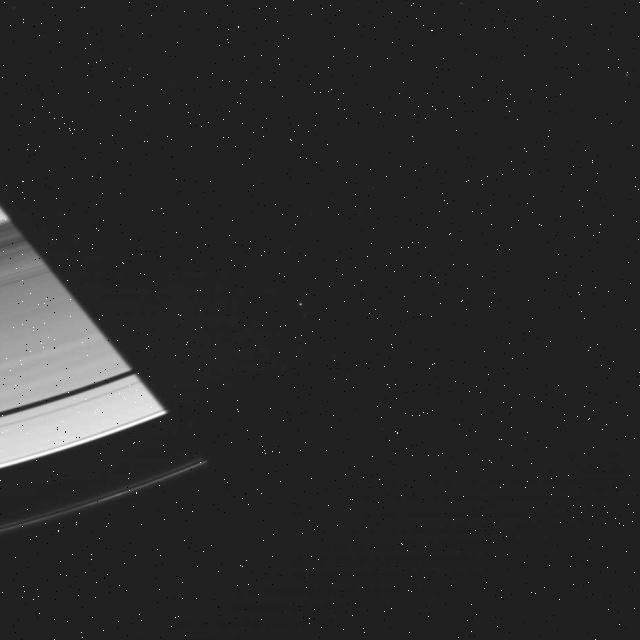Saturn: (0, 142, 214, 544)
